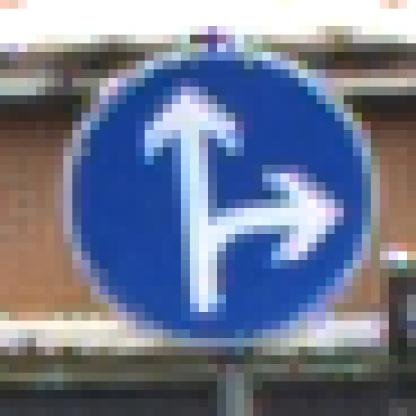Straight or Right: (55, 44, 372, 365)
